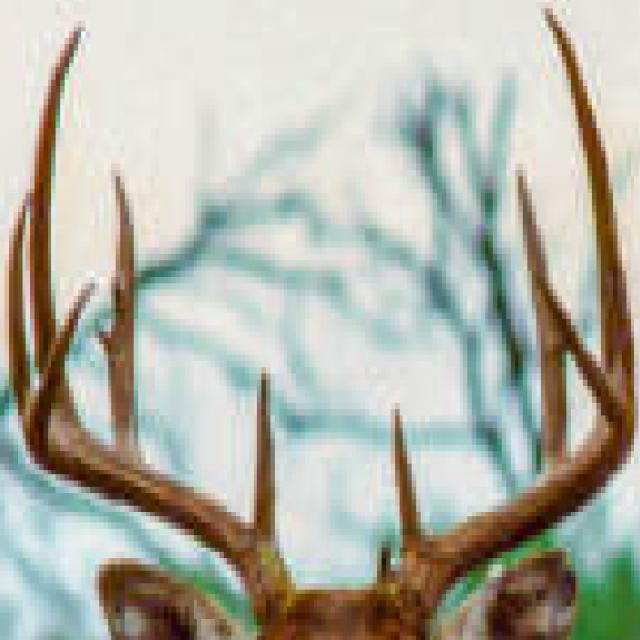L-F: (399, 248, 634, 638)
L-G1: (389, 401, 430, 564)
R-F: (22, 279, 296, 638)
R-G1: (253, 365, 285, 557)
R-G2: (105, 172, 142, 464)
